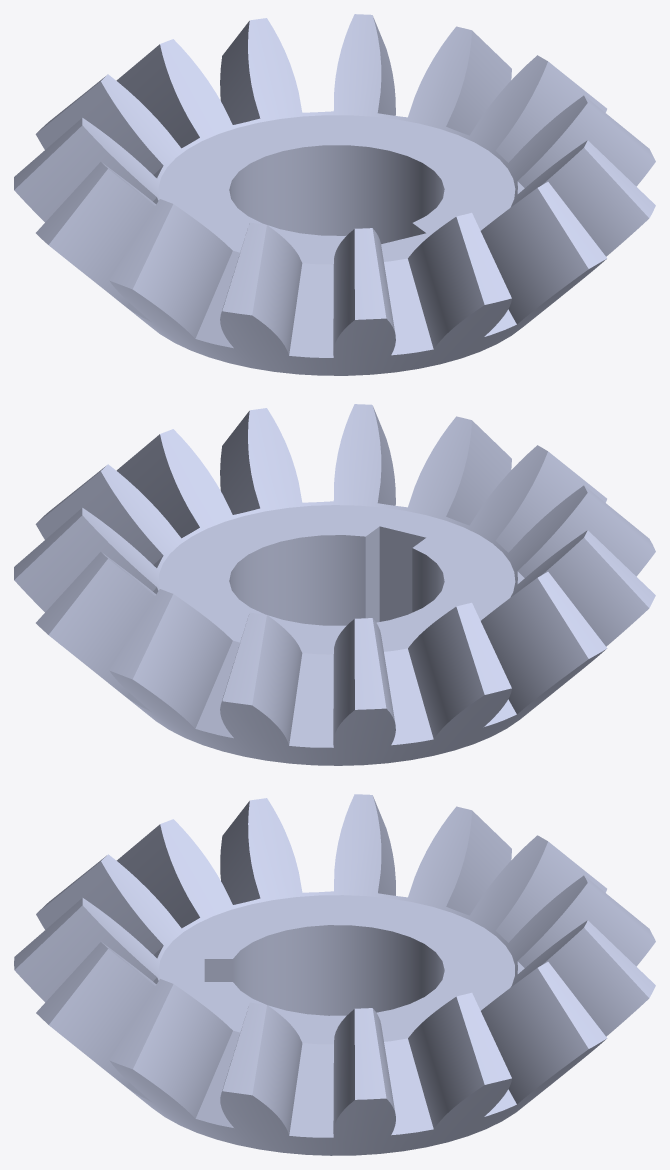
File: Side_gear_base.glb
3 renders of one model, top to bottom at view 1: azimuth 30°, elevation 25°; view 2: azimuth 150°, elevation 25°; view 3: azimuth 270°, elevation 25°, orthographic.
Parts seen in each view (by area): view 1: Side gear base; view 2: Side gear base; view 3: Side gear base.
Part boxes in pixels (<box>): Side gear base: <box>14,14,655,375</box>; Side gear base: <box>14,404,655,765</box>; Side gear base: <box>14,794,655,1155</box>.
Bounding box in the file's own units: 0.0761 × 0.0217 × 0.0757.
